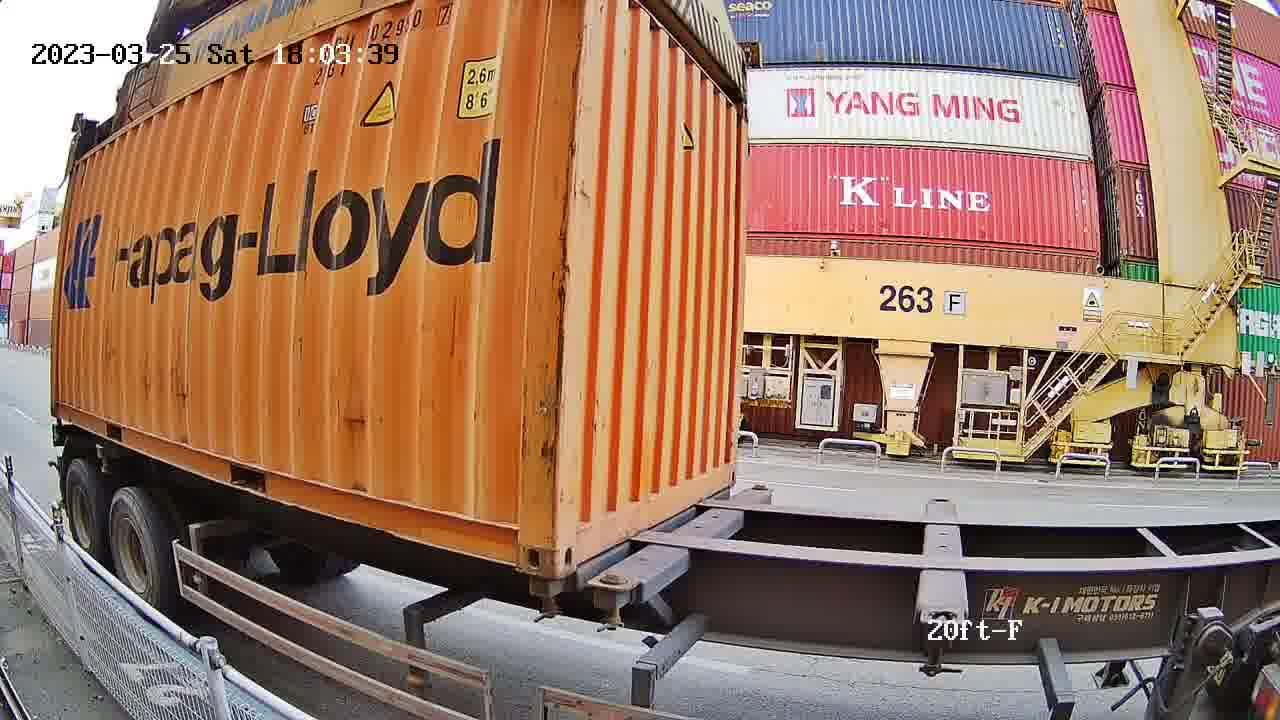Chassis: (588, 488, 772, 599)
Cone: (591, 571, 640, 634), (524, 576, 564, 622)
Hole_L: (555, 498, 598, 580)
Hole_R: (489, 504, 555, 579), (717, 452, 737, 489)
Tire: (106, 490, 164, 619), (65, 463, 103, 559)
